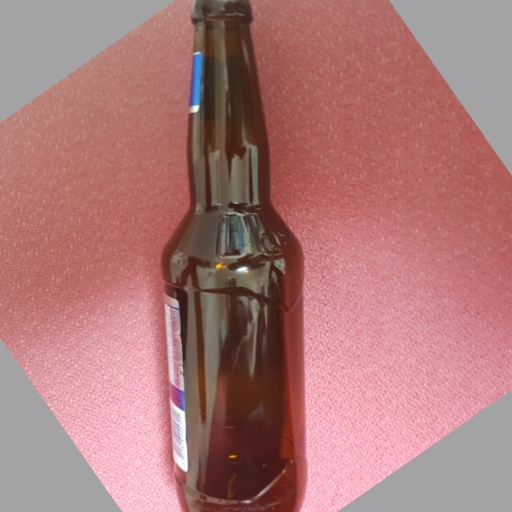Glass_1: (158, 2, 316, 512)
